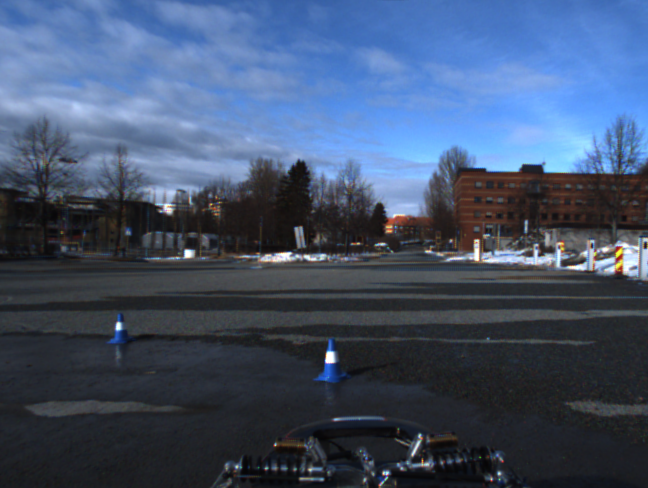cone-small-blue: (314, 338, 351, 383), (107, 313, 135, 344)
